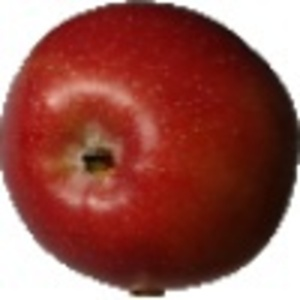maçã braeburn: (9, 2, 300, 291)
